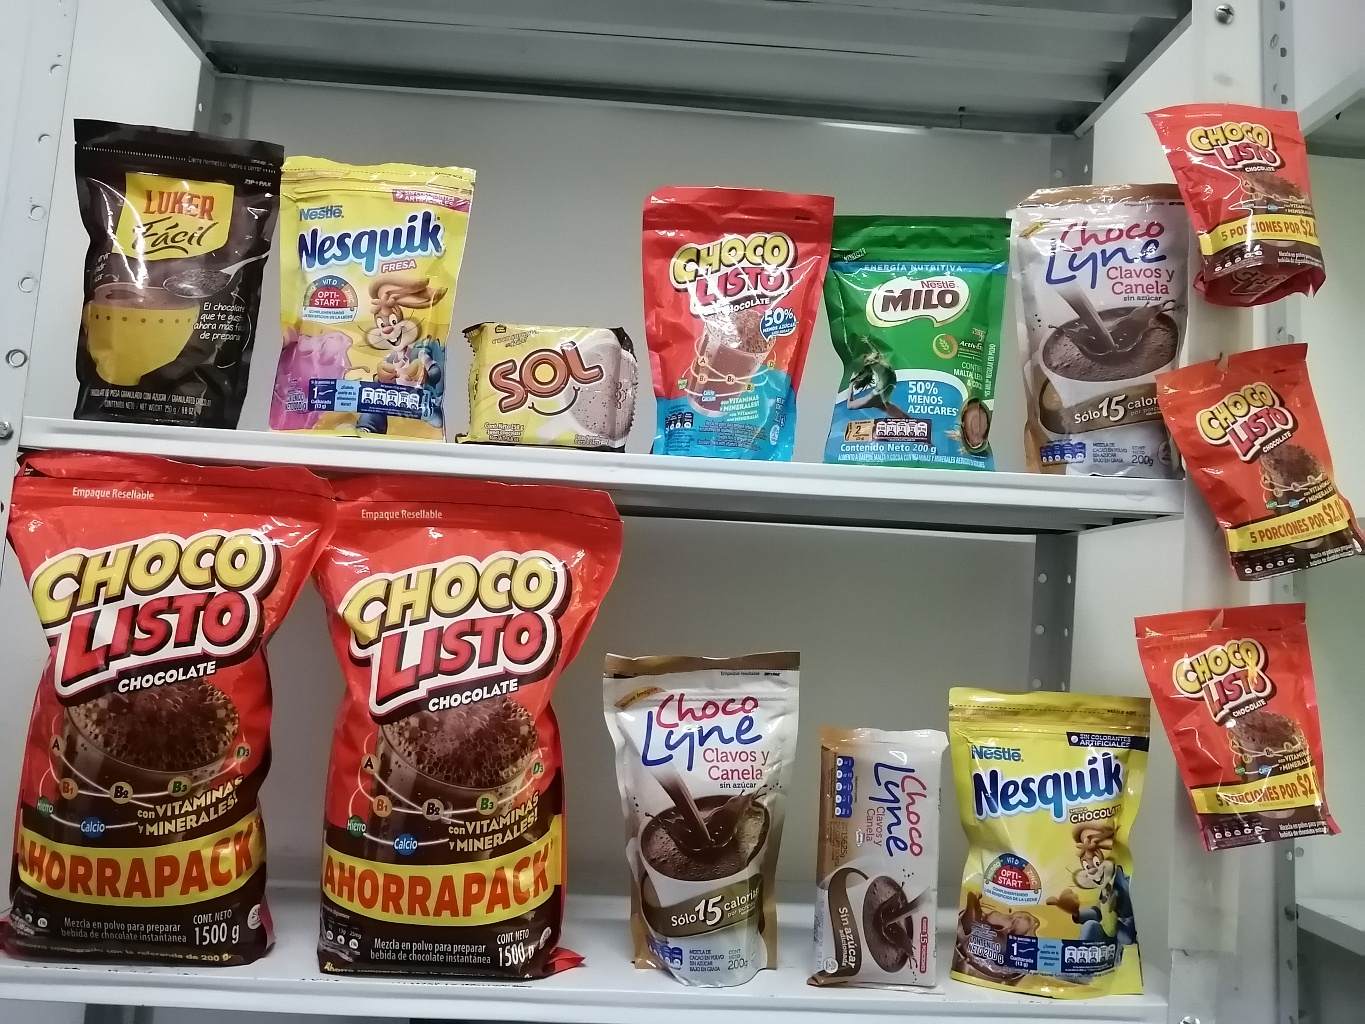COL0170103DYP1,500: (293, 463, 628, 1007)
COL0170104DYP20000: (630, 162, 854, 470)
COL0170205DYP20000: (791, 191, 1020, 483)
COL0170303DYP20000: (930, 659, 1180, 1009)
COL0170305DYP20000: (257, 133, 478, 449)
